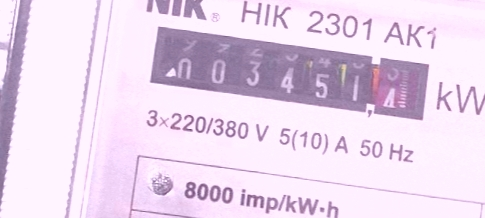0: (173, 52, 196, 81), (208, 56, 230, 85)
1: (347, 71, 366, 103)
3: (243, 56, 265, 89)
4: (276, 63, 299, 97), (378, 83, 401, 113)
5: (312, 69, 332, 101)
screen: (142, 20, 438, 129)
